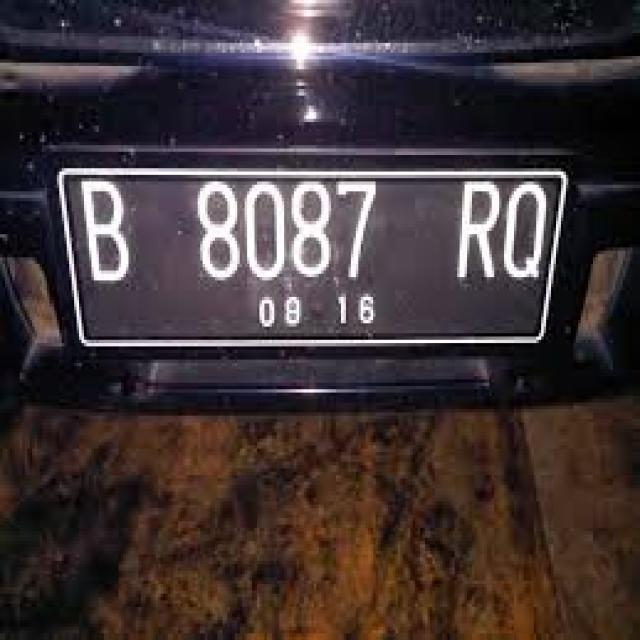license-plat: (50, 144, 557, 364)
